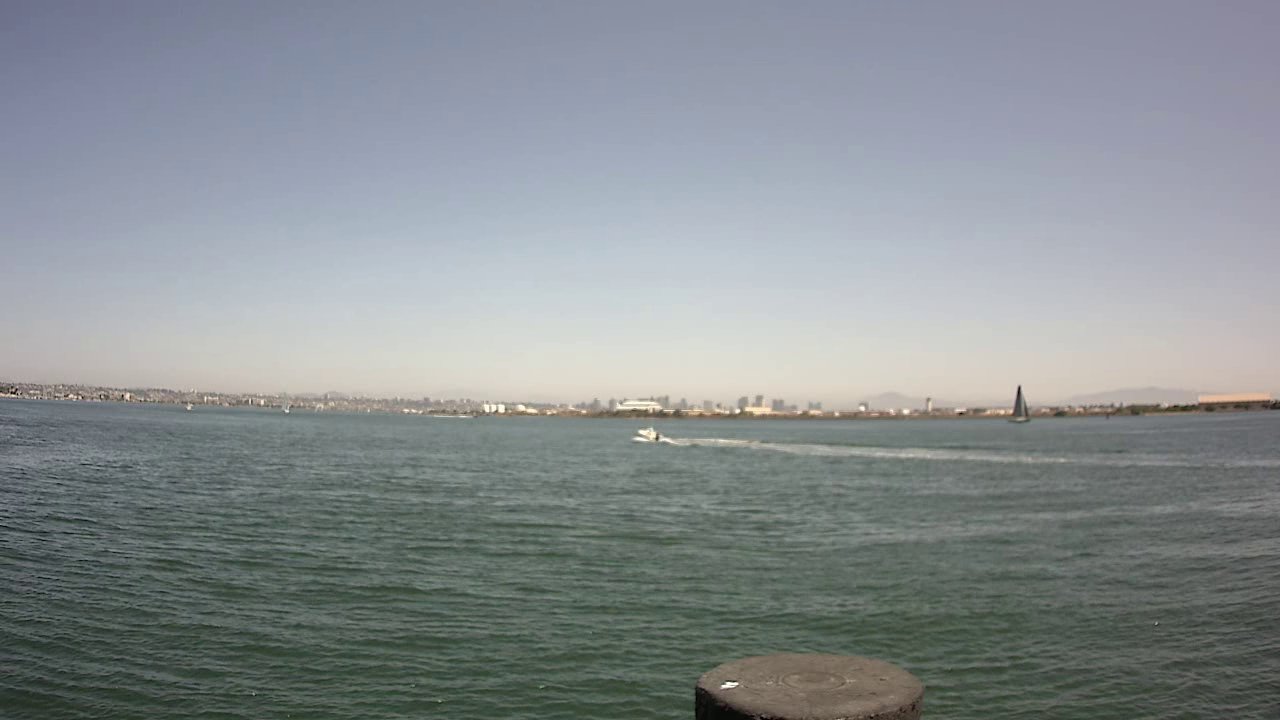target: (632, 423, 666, 442)
